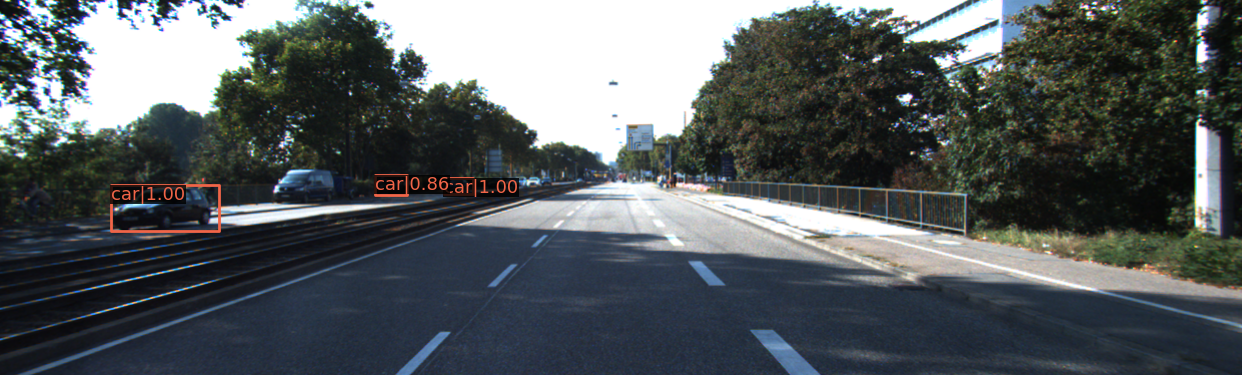car: (113, 188, 221, 232)
